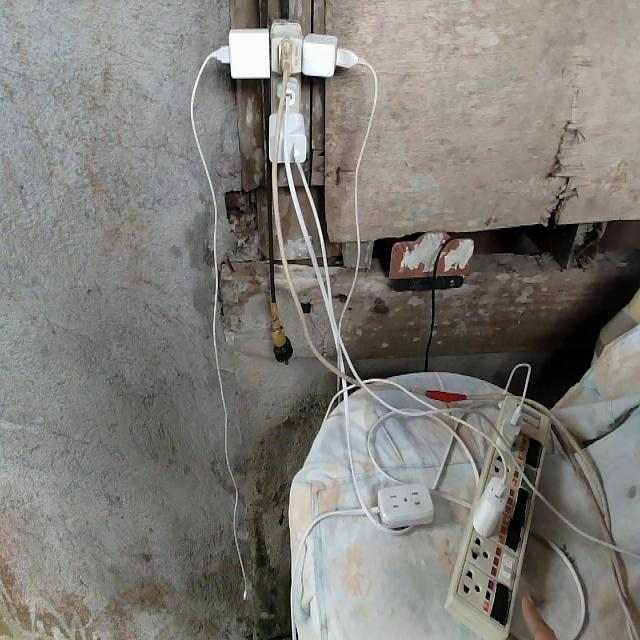-: (200, 17, 354, 167)
